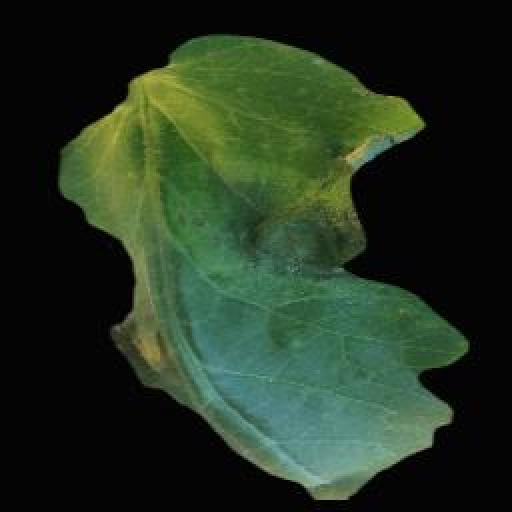disease_tomato: (57, 35, 471, 501)
